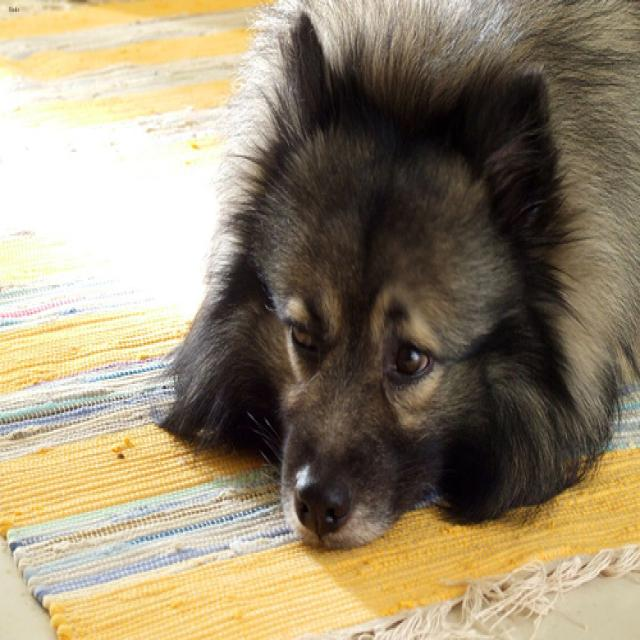dog-keeshond: (142, 2, 637, 561)
